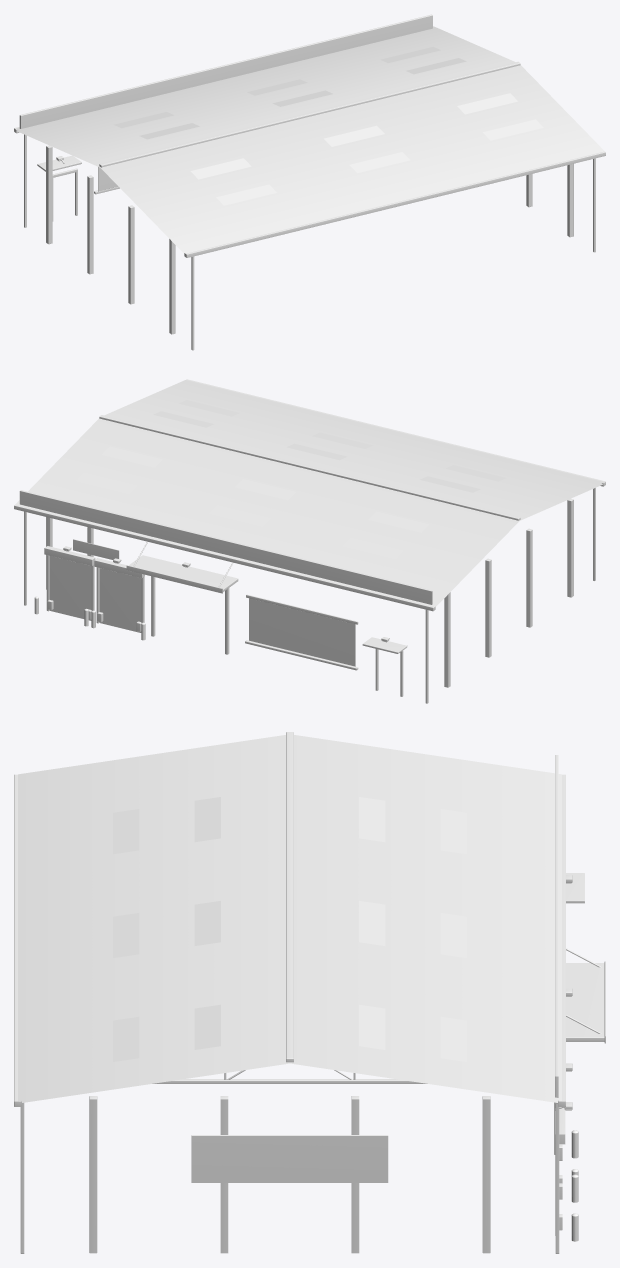
Rendered from warehouse_shell.glb.
The picture shows the model from 3 angles, top to bottom: view 1: azimuth 30°, elevation 25°; view 2: azimuth 150°, elevation 25°; view 3: azimuth 270°, elevation 25°; orthographic projection. The views are drawn at different scales.
Parts seen in each view (by area): view 1: WarehouseShell; view 2: WarehouseShell; view 3: WarehouseShell.
Boxes of the visible parts, left/top/right/bottom form: WarehouseShell: left=14, top=14, right=605, bottom=350; WarehouseShell: left=14, top=379, right=605, bottom=703; WarehouseShell: left=14, top=732, right=605, bottom=1253.
Bounding box in the file's own units: 23.6 × 6.78 × 18.06.
1 material, 1 textured.
